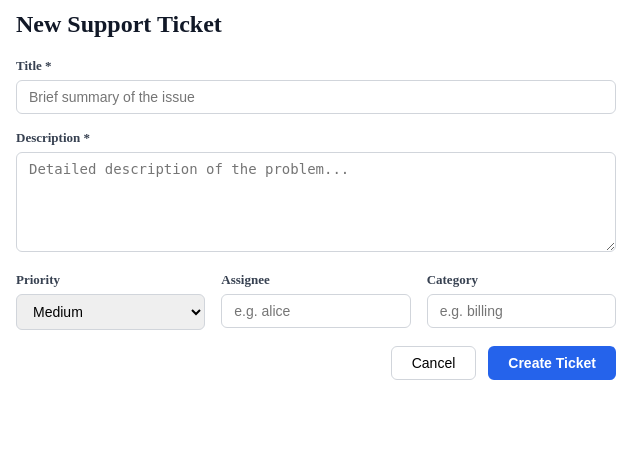
it: CreateTicketForm › shows a generic server error message for non-validation failures
The width and height of the screenshot is (633, 451).
What coordinates should you click on to do the following:
click the button "Create Ticket"
I would click on:
 (552, 363)
Its box is top-left (488, 346), bottom-right (616, 380).
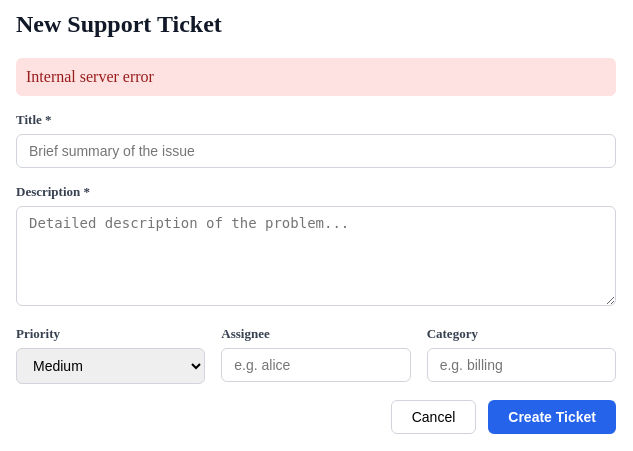
Now the text "Internal server error" is shown, box top-left (16, 58), bottom-right (616, 96)
